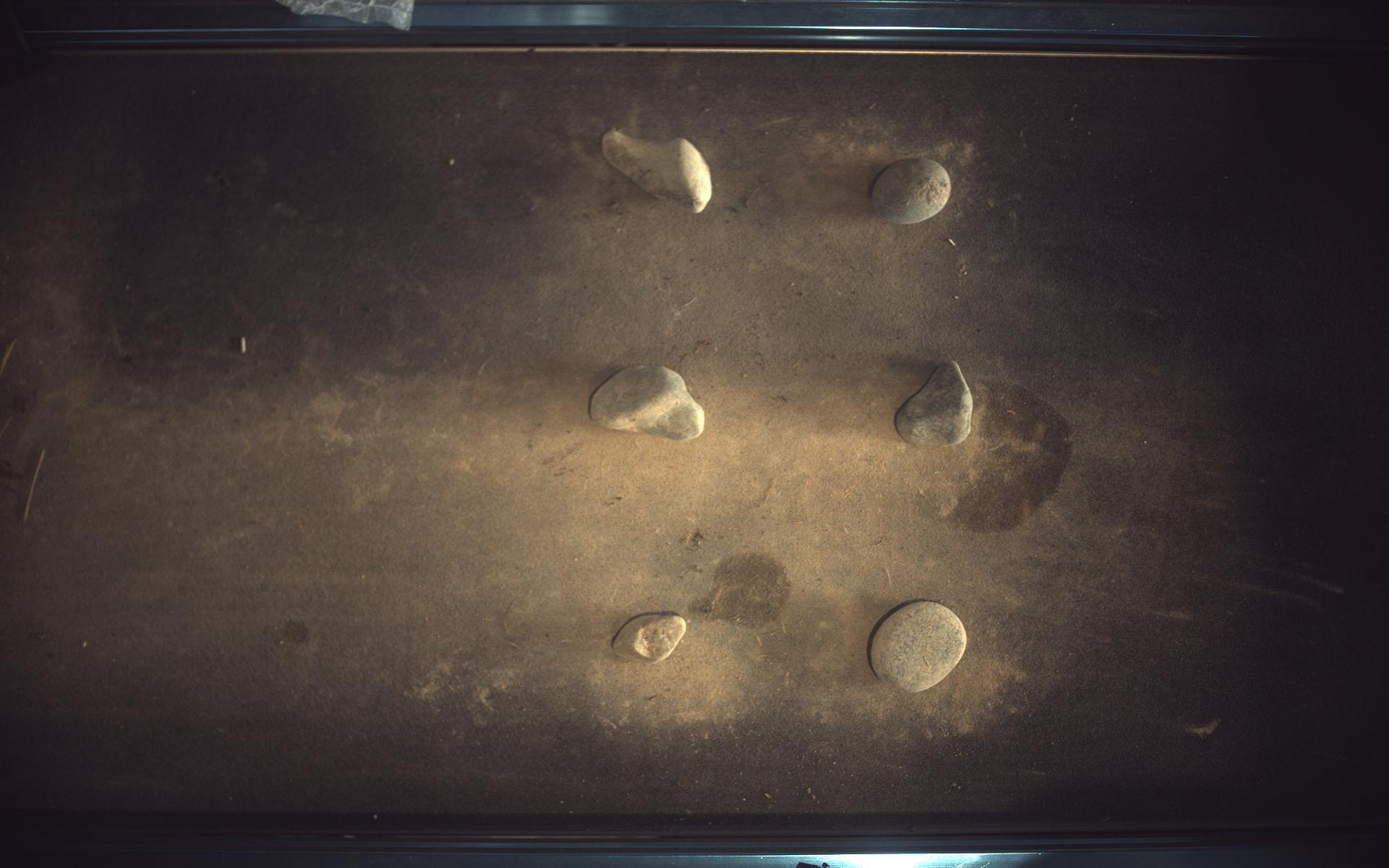stone: (603, 128, 713, 213), (872, 602, 969, 694), (591, 365, 705, 441), (897, 360, 974, 446), (874, 157, 953, 224), (613, 613, 687, 664)
